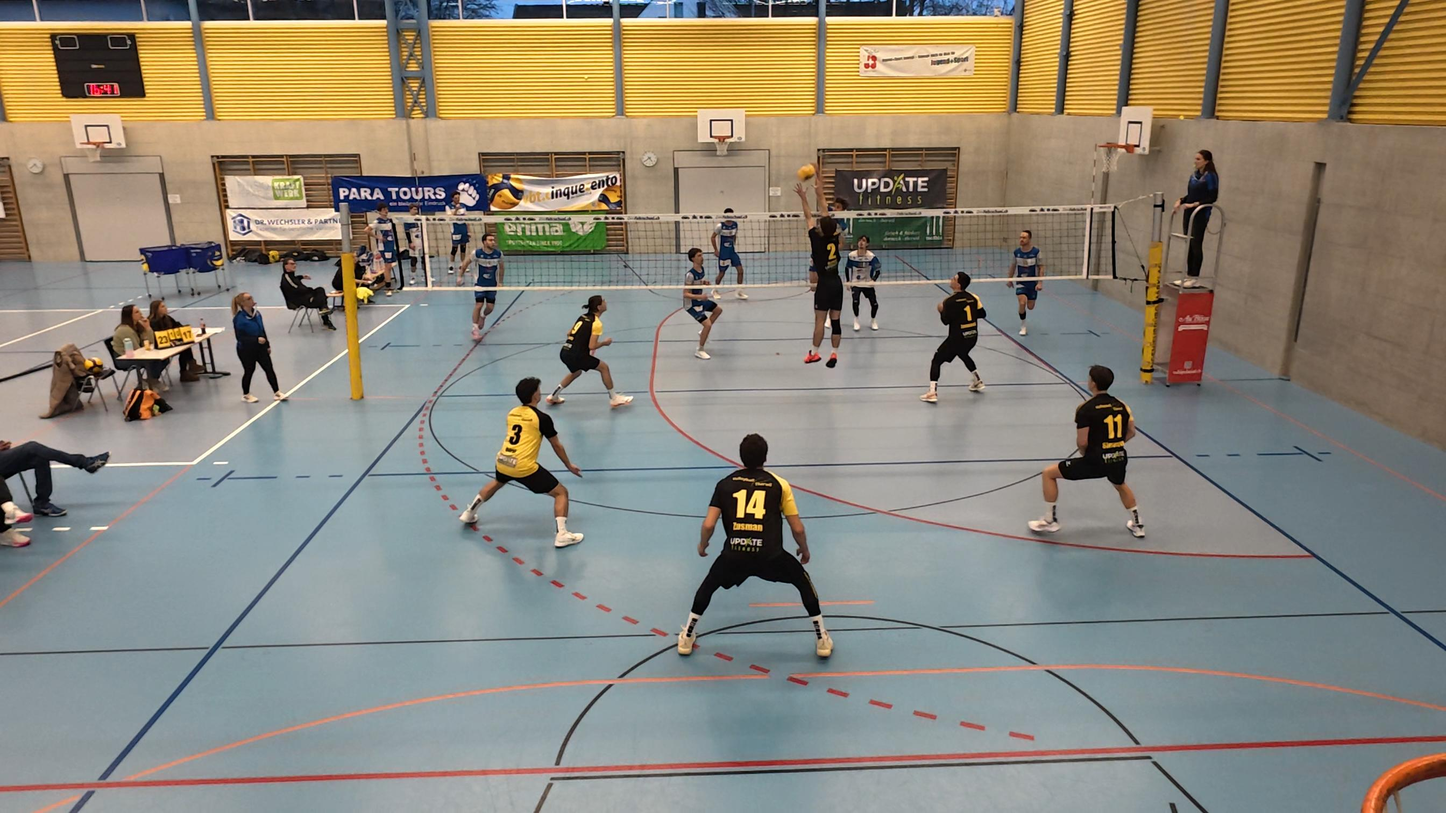Attack: (795, 158, 850, 235)
Block: (800, 187, 850, 372)
Player: (673, 433, 835, 661), (460, 377, 584, 548), (1027, 366, 1145, 539), (546, 294, 631, 409), (920, 273, 987, 404), (456, 233, 507, 339), (685, 252, 723, 360), (708, 205, 751, 300), (846, 233, 883, 332), (1009, 230, 1041, 336)
ball: (797, 166, 817, 180)
